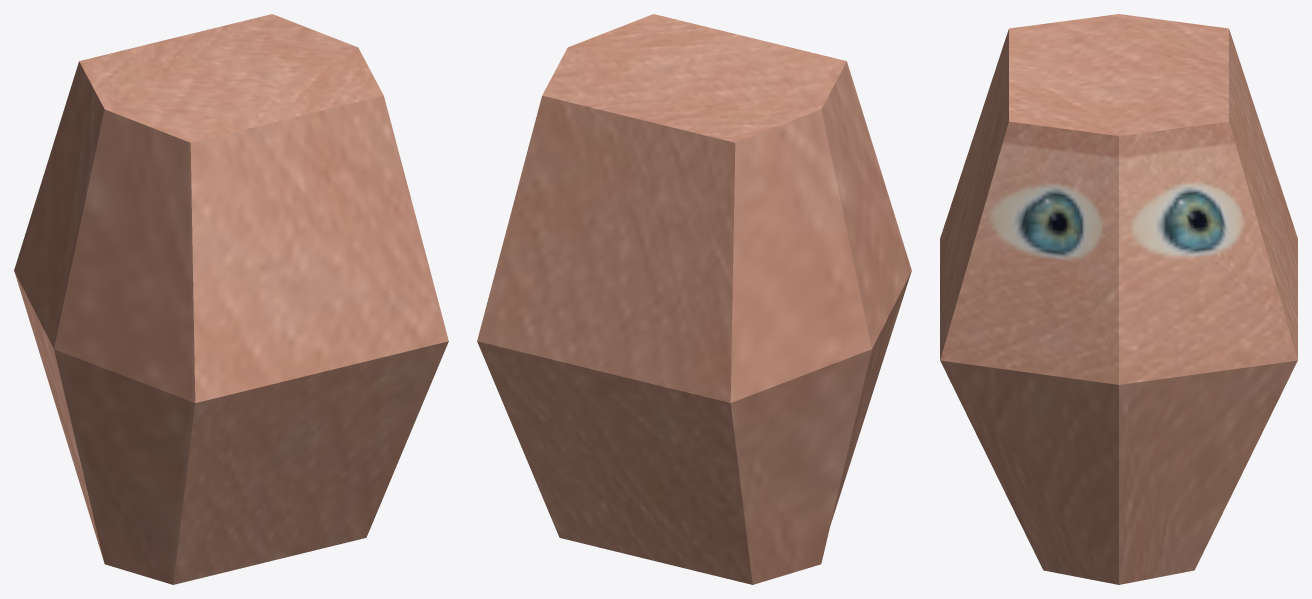
File: head.obj
3 renders of one model, left to right at view 1: azimuth 30°, elevation 25°; view 2: azimuth 150°, elevation 25°; view 3: azimuth 270°, elevation 25°, orthographic.
Visible parts, largest first — view 1: Cube; view 2: Cube; view 3: Cube.
Boxes of the visible parts, x1,y1,x2,y2 form: Cube: (14, 14, 448, 584); Cube: (477, 14, 911, 584); Cube: (940, 14, 1297, 584).
Bounding box in the file's own units: 1.18 × 1.44 × 1.04.
